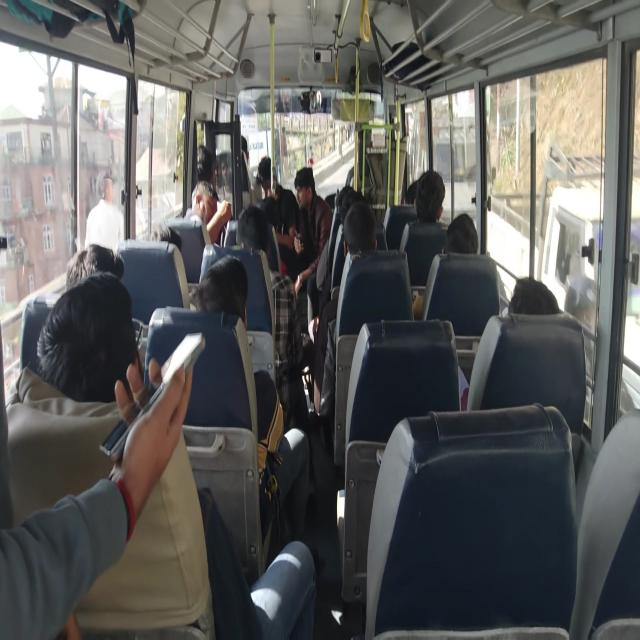person: (33, 280, 141, 419), (189, 250, 259, 334), (73, 216, 128, 308), (503, 270, 570, 325), (338, 193, 384, 265), (231, 194, 274, 256), (186, 168, 226, 233), (417, 159, 443, 233), (446, 211, 481, 264), (154, 212, 186, 251), (189, 138, 215, 182), (334, 180, 363, 217), (351, 112, 380, 148), (257, 147, 281, 190), (294, 175, 322, 209), (261, 187, 284, 225), (236, 124, 254, 164), (406, 180, 420, 208)
